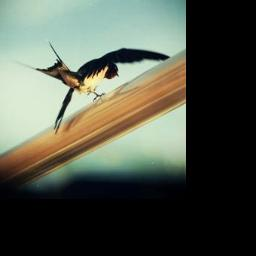Swallow: (11, 39, 173, 134)
